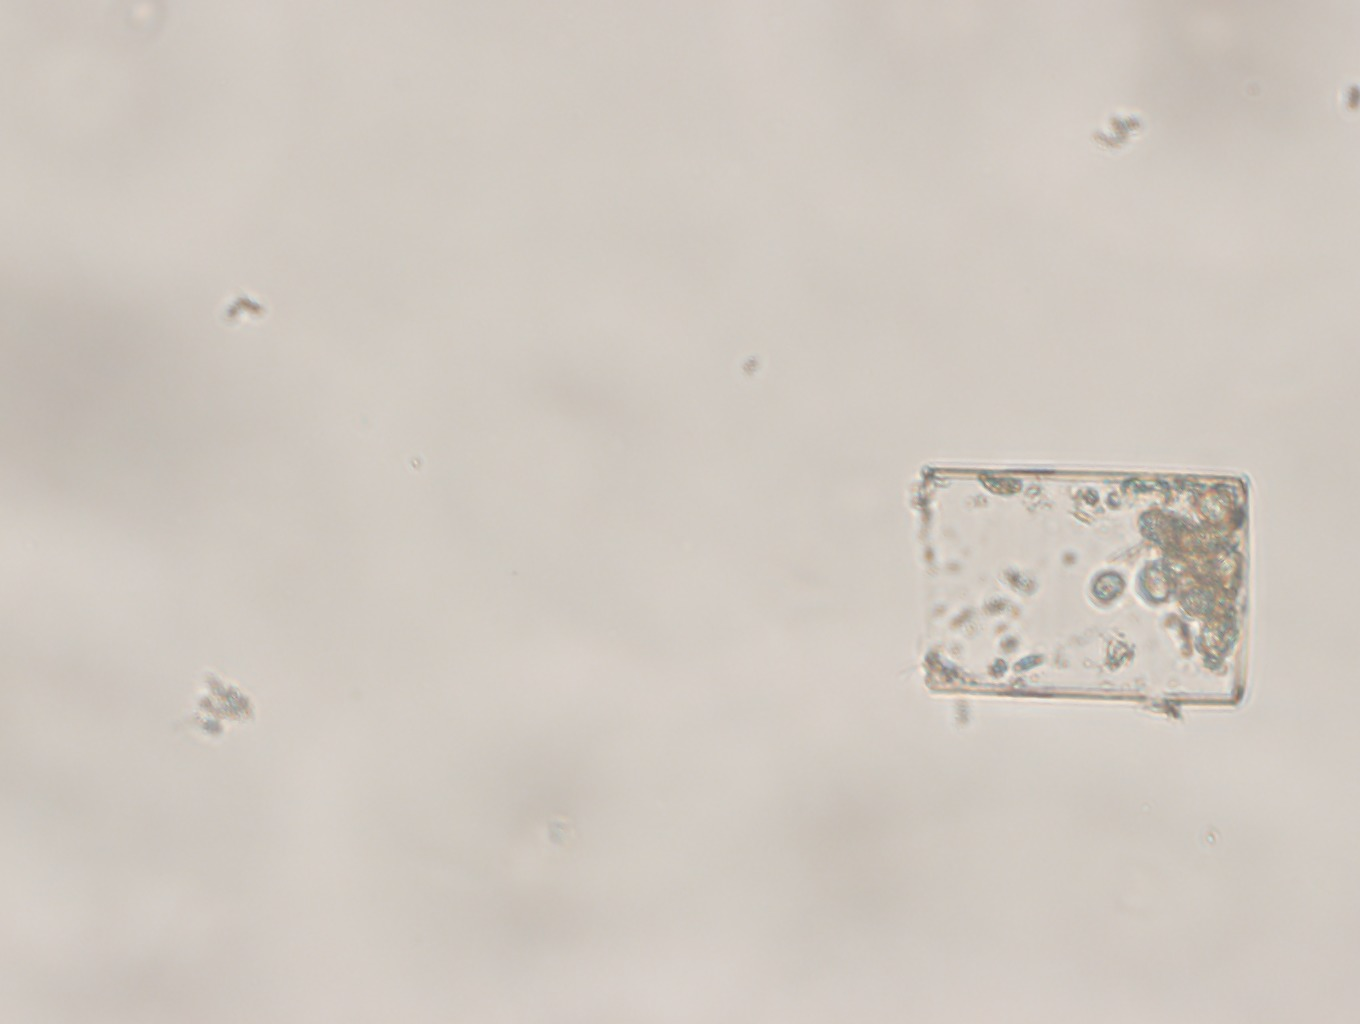guinardia flaccida: (903, 437, 1260, 727)
